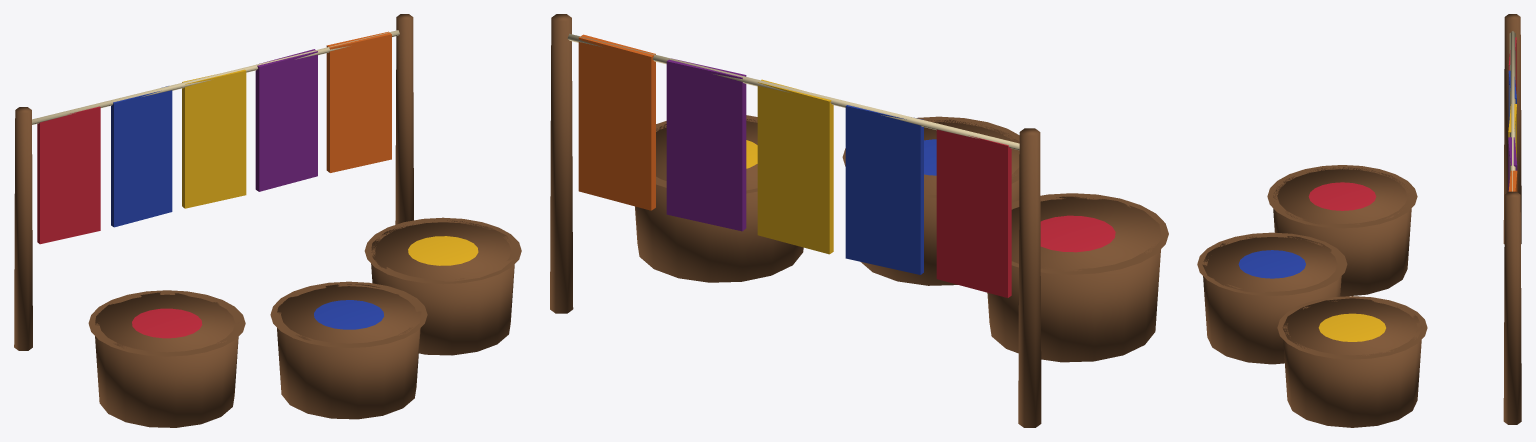
The model's file is resource_dyes.fbx.
3 views of the same model, side by side, from view 1: azimuth 30°, elevation 25°; view 2: azimuth 150°, elevation 25°; view 3: azimuth 270°, elevation 25° (orthographic). The views are drawn at different scales.
Visible parts, largest first — view 1: resource_dyes_wood#7a5232_00, resource_dyes_cloth#e06a20_09, resource_dyes_cloth#f0b81c_07, resource_dyes_cloth#7a2a8a_08, resource_dyes_cloth#c8283a_05, resource_dyes_cloth#2a46b0_06, resource_dyes_dye#2a46b0_02, resource_dyes_dye#c8283a_01, resource_dyes_dye#f0b81c_03, resource_dyes_line_04; view 2: resource_dyes_wood#7a5232_00, resource_dyes_cloth#7a2a8a_08, resource_dyes_cloth#e06a20_09, resource_dyes_cloth#2a46b0_06, resource_dyes_cloth#f0b81c_07, resource_dyes_cloth#c8283a_05, resource_dyes_dye#c8283a_01, resource_dyes_line_04; view 3: resource_dyes_wood#7a5232_00, resource_dyes_dye#c8283a_01, resource_dyes_dye#2a46b0_02, resource_dyes_dye#f0b81c_03, resource_dyes_line_04.
Part boxes in pixels (bbox=[...]): resource_dyes_wood#7a5232_00: bbox=[14, 14, 521, 427]; resource_dyes_cloth#e06a20_09: bbox=[326, 31, 391, 172]; resource_dyes_cloth#f0b81c_07: bbox=[182, 69, 246, 208]; resource_dyes_cloth#7a2a8a_08: bbox=[255, 49, 317, 191]; resource_dyes_cloth#c8283a_05: bbox=[37, 106, 100, 244]; resource_dyes_cloth#2a46b0_06: bbox=[111, 86, 172, 227]; resource_dyes_dye#2a46b0_02: bbox=[314, 300, 384, 329]; resource_dyes_dye#c8283a_01: bbox=[132, 308, 202, 338]; resource_dyes_dye#f0b81c_03: bbox=[408, 236, 478, 265]; resource_dyes_line_04: bbox=[32, 30, 399, 124]; resource_dyes_wood#7a5232_00: bbox=[550, 14, 1168, 427]; resource_dyes_cloth#7a2a8a_08: bbox=[666, 58, 746, 231]; resource_dyes_cloth#e06a20_09: bbox=[578, 34, 655, 210]; resource_dyes_cloth#2a46b0_06: bbox=[845, 105, 923, 274]; resource_dyes_cloth#f0b81c_07: bbox=[757, 79, 833, 254]; resource_dyes_cloth#c8283a_05: bbox=[936, 129, 1011, 297]; resource_dyes_dye#c8283a_01: bbox=[1040, 215, 1115, 252]; resource_dyes_line_04: bbox=[567, 33, 1019, 150]; resource_dyes_wood#7a5232_00: bbox=[1197, 14, 1521, 427]; resource_dyes_dye#c8283a_01: bbox=[1308, 182, 1376, 210]; resource_dyes_dye#2a46b0_02: bbox=[1238, 250, 1305, 278]; resource_dyes_dye#f0b81c_03: bbox=[1318, 313, 1385, 341]; resource_dyes_line_04: bbox=[1509, 31, 1515, 191].
Size of the model in its own units: 92 by 50 by 64.8.
